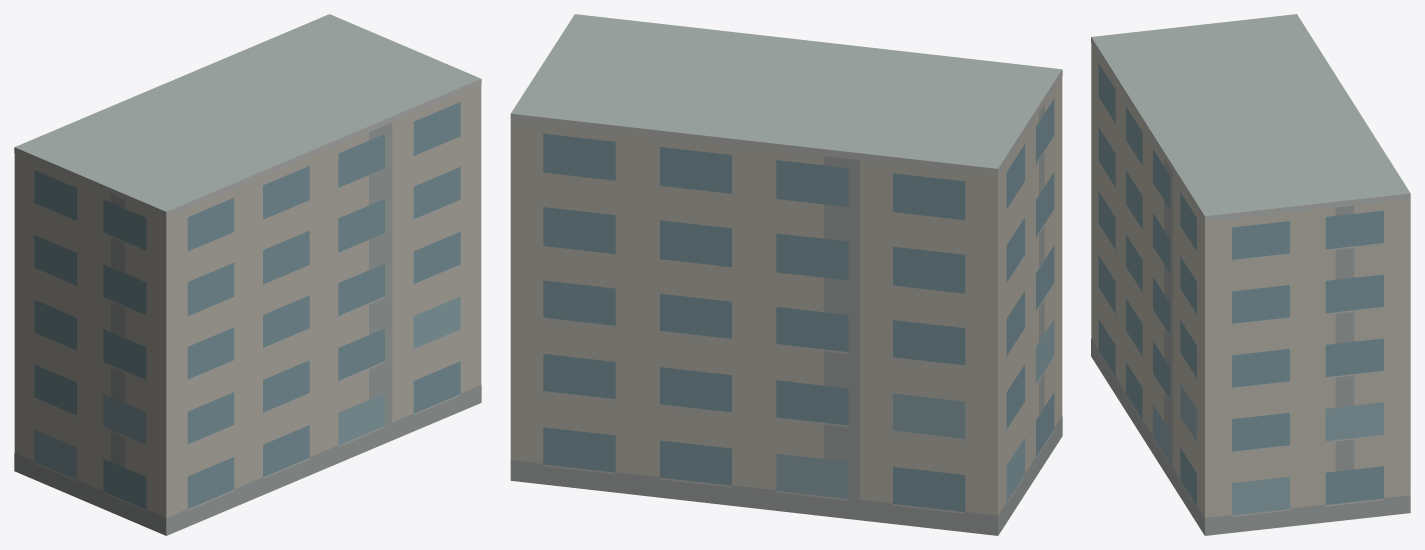
Rendered from survey-upis-32651110.glb.
3 renders of one model, left to right at view 1: azimuth 30°, elevation 25°; view 2: azimuth 150°, elevation 25°; view 3: azimuth 270°, elevation 25°, orthographic. The views are drawn at different scales.
Parts seen in each view (by area): view 1: survey-upis-32651110.tmp; view 2: survey-upis-32651110.tmp; view 3: survey-upis-32651110.tmp.
Part boxes in pixels (bbox=[...]): survey-upis-32651110.tmp: bbox=[14, 14, 481, 535]; survey-upis-32651110.tmp: bbox=[510, 14, 1062, 535]; survey-upis-32651110.tmp: bbox=[1091, 14, 1410, 535].
Size of the model in its own units: 17.79 by 13.1 by 11.88.
